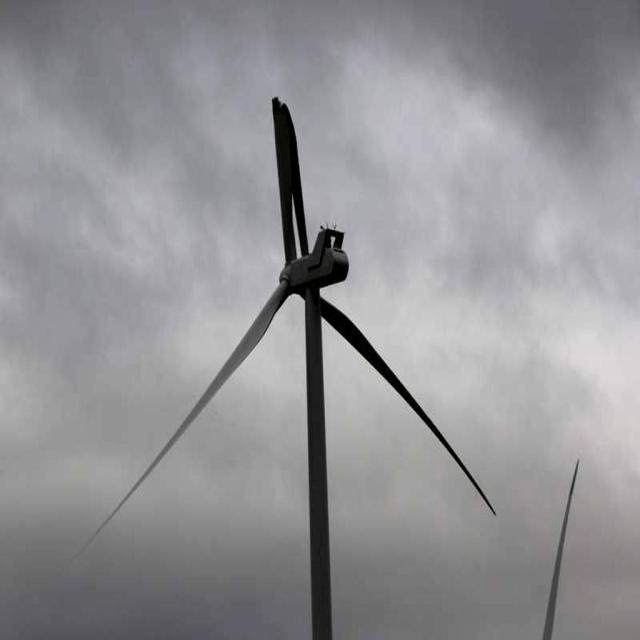crack: (263, 85, 325, 289)
